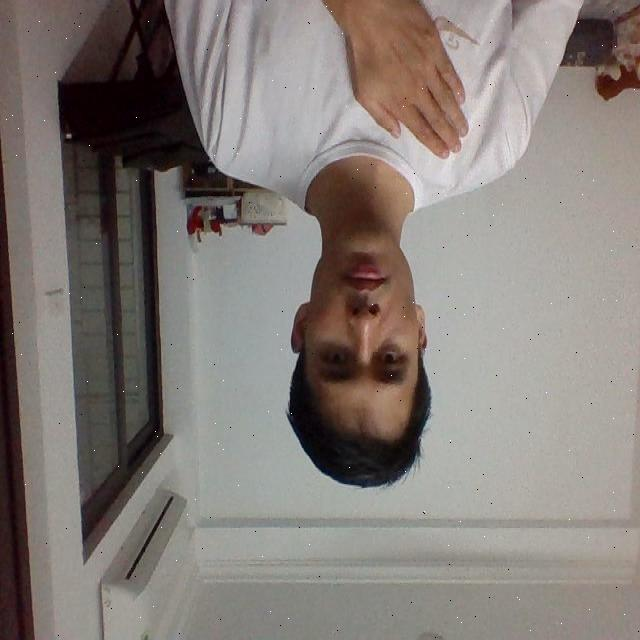please: (336, 0, 472, 167)
